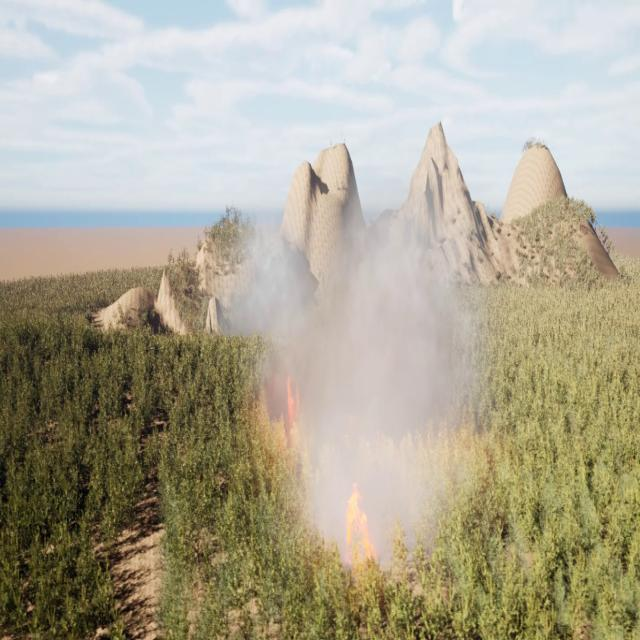fire: (342, 476, 376, 567), (280, 375, 303, 440)
smoke: (219, 174, 486, 575)
